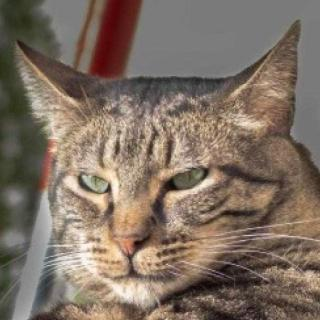cat: (12, 28, 302, 306)
nose: (106, 206, 162, 262)
